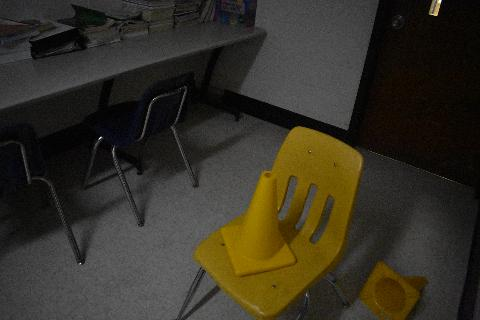cone: (219, 170, 297, 276), (358, 260, 428, 320)
